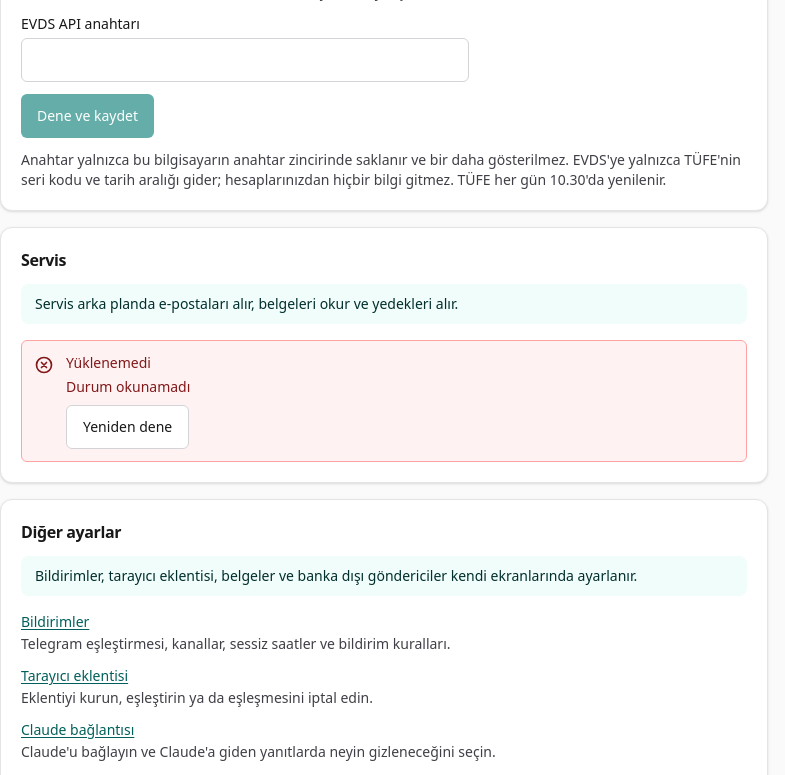
Test case: SettingsPage › says the service's state could not be read and asks again
(page scrolled)
Expected: the text "Durum okunamadı" is shown, [66,377,190,397]
Click the button "Yeniden dene" at (128, 427), box [66,405,189,449]
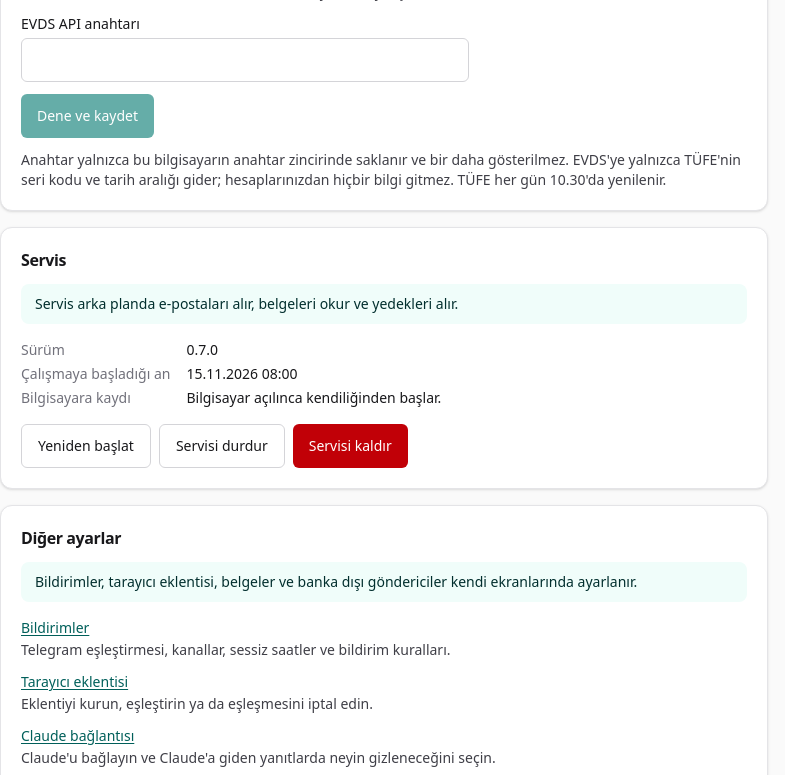
Expected: the text "0.7.0" is shown, [186,340,218,359]
